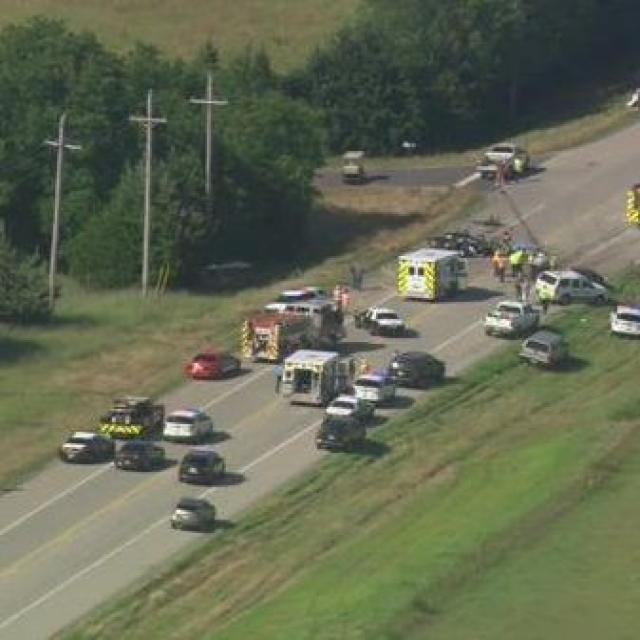traffic_incident: (429, 220, 511, 269)
